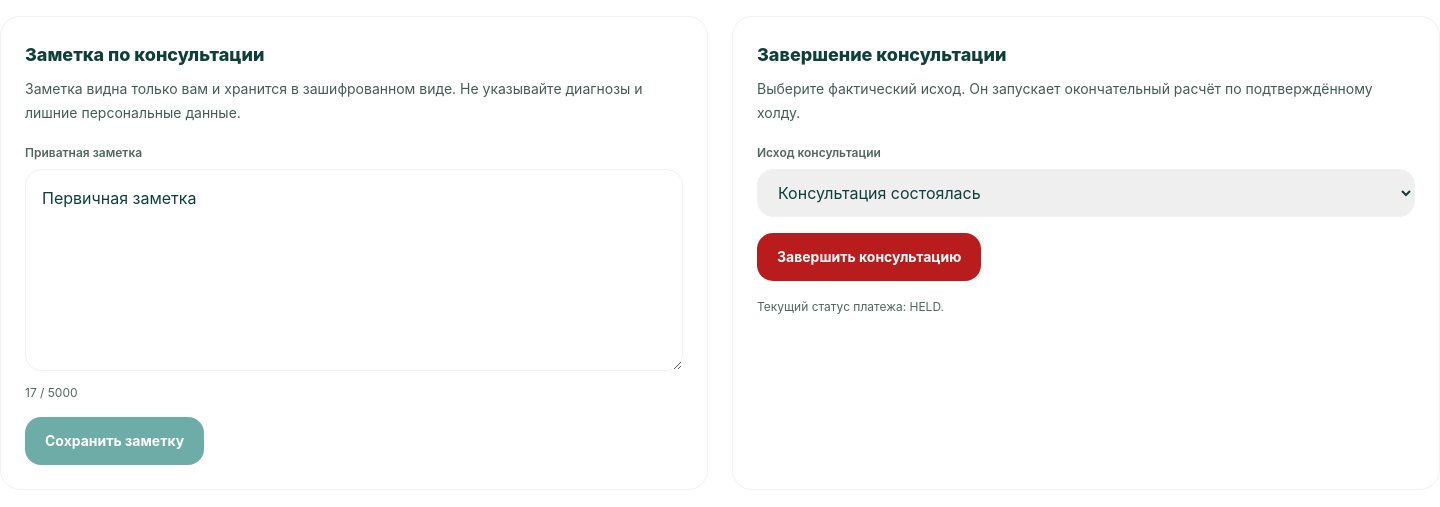
Test: ExpertSessionActions › предлагает ровно четыре канонических outcome и требует отдельного подтверждения
This screenshot has width=1440, height=507.
Check: the text box showing "Первичная заметка" is shown, box [25,169,683,371]
Select "Техническая проблема" in the dropdown labelled "Исход консультации" at (1086, 193), box [757,169,1415,217]
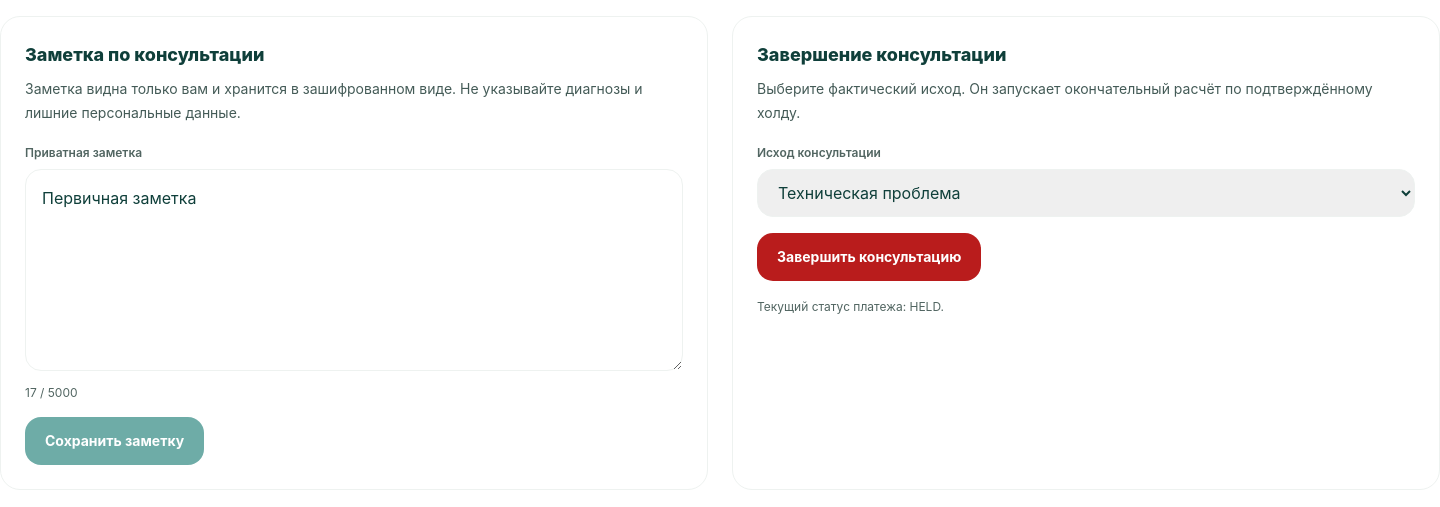
Click the button "Завершить консультацию" at (869, 257), box [757,233,981,281]
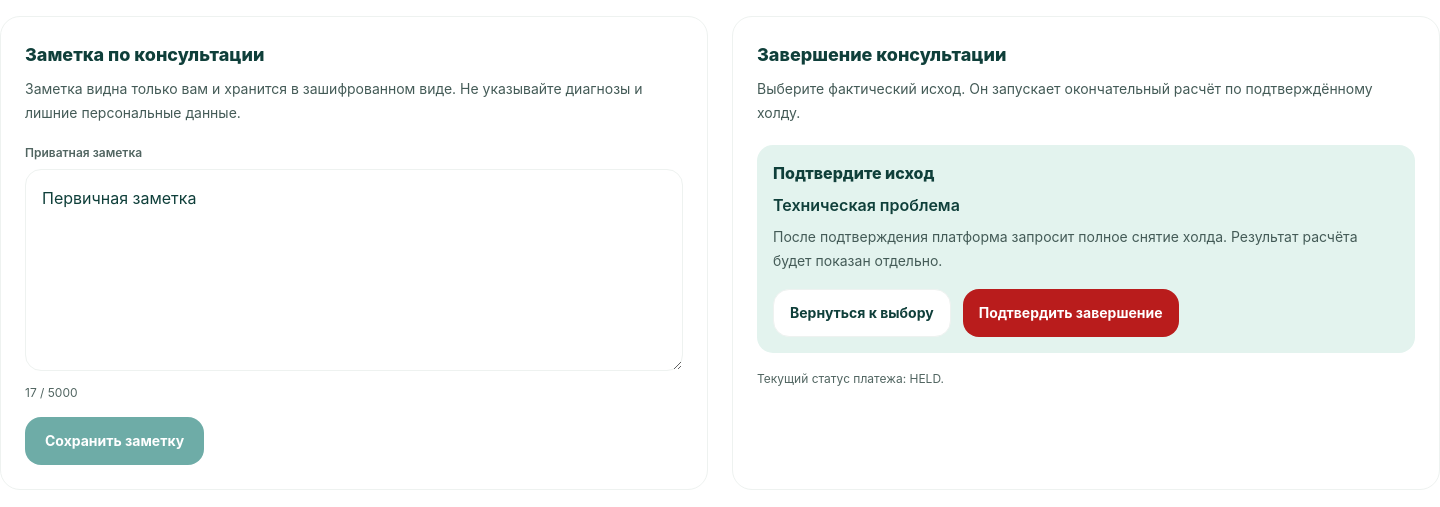
Check: the text "Техническая проблема" is shown, box [773,195,960,215]
Check: the button "Подтвердить завершение" is shown, box [963,289,1179,337]
